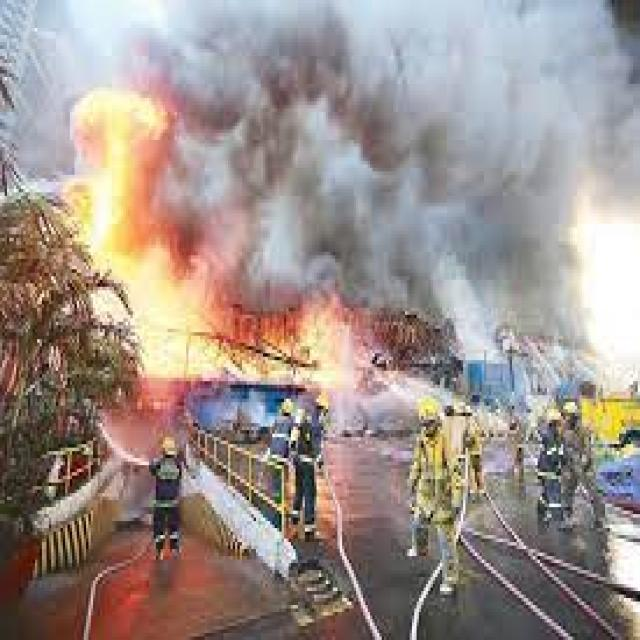Fire: (80, 127, 225, 395)
Smoke: (167, 14, 640, 309)
